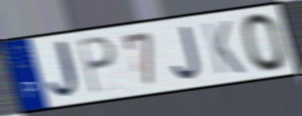7: (120, 29, 154, 88)
J: (47, 37, 86, 102), (171, 24, 203, 82)
K: (200, 18, 247, 76)
O: (239, 11, 289, 74)
P: (75, 35, 119, 97)
